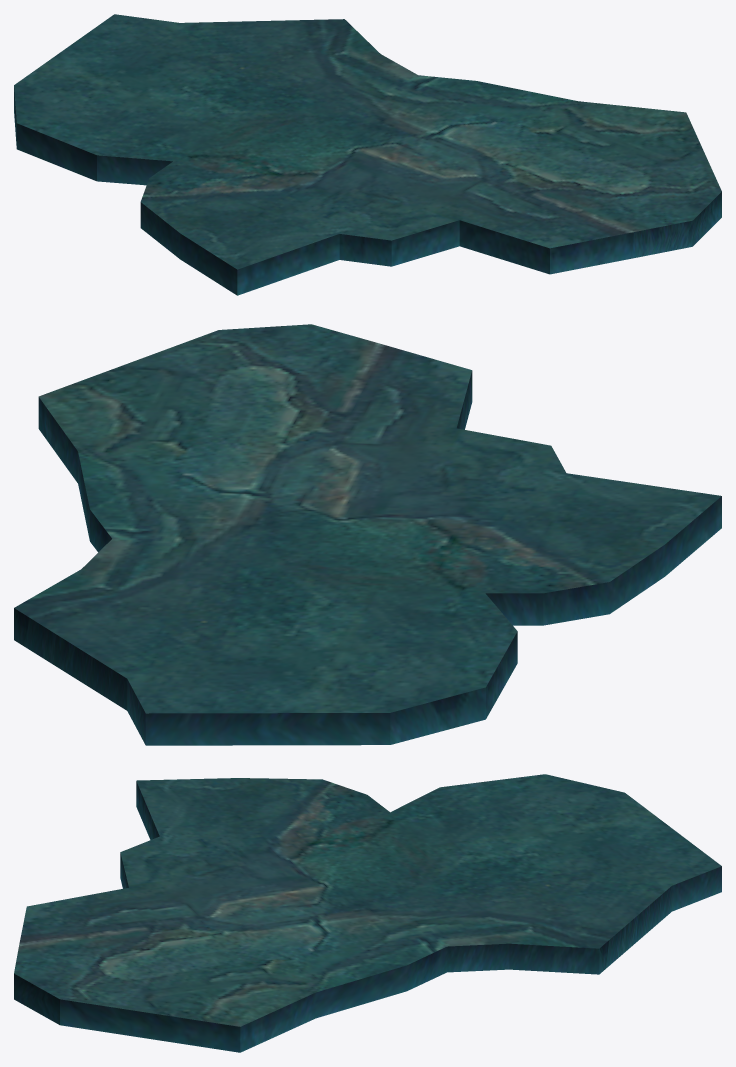
File: yw_mojiediyu_yunmu03.FBX
3 views of the same model, one above another, from view 1: azimuth 30°, elevation 25°; view 2: azimuth 150°, elevation 25°; view 3: azimuth 270°, elevation 25° (orthographic). The views are drawn at different scales.
Visible parts, largest first — view 1: yw_mojiediyu_yunmu03; view 2: yw_mojiediyu_yunmu03; view 3: yw_mojiediyu_yunmu03.
Boxes of the visible parts, bbox=[...] form: yw_mojiediyu_yunmu03: bbox=[14, 14, 721, 295]; yw_mojiediyu_yunmu03: bbox=[14, 324, 721, 745]; yw_mojiediyu_yunmu03: bbox=[14, 774, 721, 1052].
Size of the model in its own units: 390 by 21.29 by 466.
